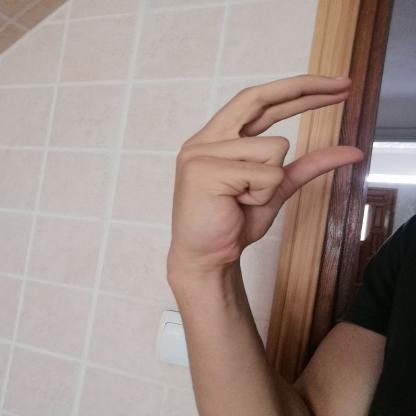DHELL: (154, 63, 377, 274)
